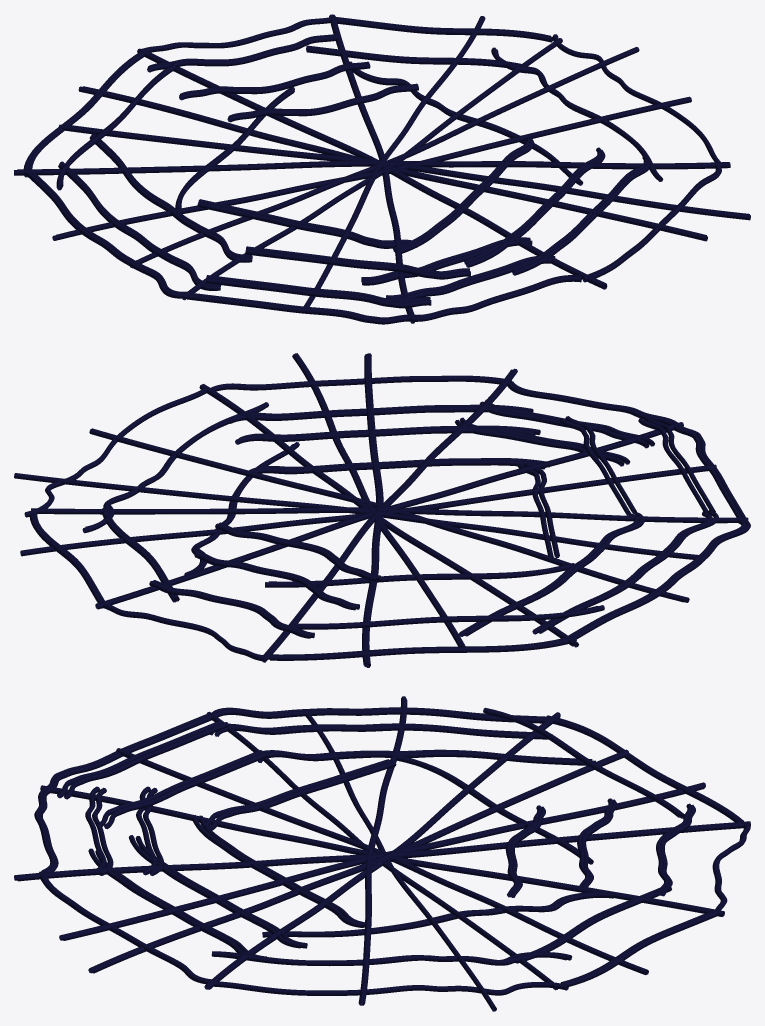
The model's file is cobweb.fbx.
3 views of the same model, one above another, from view 1: azimuth 30°, elevation 25°; view 2: azimuth 150°, elevation 25°; view 3: azimuth 270°, elevation 25° (orthographic). The views are drawn at different scales.
Parts seen in each view (by area): view 1: defaultBrush19Main, defaultBrush26Main, defaultBrush30Main, defaultBrush18Main, defaultBrush20Main, defaultBrush31Main, defaultBrush32Main, pasted__defaultBrush29Main, pasted__pasted__defaultBrush22Main, defaultBrush22Main, defaultBrush34Main, pasted__defaultBrush24Main (+44 smaller); view 2: defaultBrush21Main, defaultBrush34Main, defaultBrush32Main, defaultBrush3Main, defaultBrush1Main, defaultBrush2Main, defaultBrush29Main, defaultBrush31Main, pasted__pasted__pasted__defaultBrush7Main, defaultBrush7Main, pasted__defaultBrush7Main, pasted__pasted__defaultBrush7Main (+47 smaller); view 3: defaultBrush14Main, defaultBrush13Main, defaultBrush15Main, defaultBrush9Main, defaultBrush4Main, pasted__defaultBrush8Main, defaultBrush8Main, defaultBrush2Main, pasted__pasted__defaultBrush8Main, pasted__defaultBrush11Main, defaultBrush20Main, pasted__defaultBrush20Main (+39 smaller).
Part boxes in pixels (box(x1,y1,x2,y2)): defaultBrush19Main: box(14, 161, 730, 175); defaultBrush26Main: box(58, 124, 750, 220); defaultBrush30Main: box(78, 86, 707, 241); defaultBrush18Main: box(52, 97, 691, 240); defaultBrush20Main: box(130, 47, 639, 268); defaultBrush31Main: box(137, 48, 607, 289); defaultBrush32Main: box(329, 14, 415, 323); pasted__defaultBrush29Main: box(206, 278, 431, 308); pasted__pasted__defaultBrush22Main: box(245, 249, 470, 279); defaultBrush22Main: box(186, 294, 411, 324); defaultBrush34Main: box(181, 38, 561, 300); pasted__defaultBrush24Main: box(306, 47, 528, 67); defaultBrush21Main: box(20, 464, 716, 556); defaultBrush34Main: box(31, 507, 748, 523); defaultBrush32Main: box(95, 422, 683, 609); defaultBrush3Main: box(14, 474, 697, 559); defaultBrush1Main: box(89, 429, 683, 602); defaultBrush2Main: box(199, 384, 575, 646); defaultBrush29Main: box(270, 637, 576, 660); defaultBrush31Main: box(261, 368, 517, 662); pasted__pasted__pasted__defaultBrush7Main: box(246, 460, 545, 476); defaultBrush7Main: box(211, 376, 508, 391); pasted__defaultBrush7Main: box(229, 406, 527, 423); pasted__pasted__defaultBrush7Main: box(235, 427, 535, 444); defaultBrush14Main: box(17, 822, 749, 881); defaultBrush13Main: box(63, 784, 704, 940); defaultBrush15Main: box(44, 787, 723, 916); defaultBrush9Main: box(91, 751, 628, 973); defaultBrush4Main: box(118, 750, 648, 975); pasted__defaultBrush8Main: box(214, 725, 552, 739); defaultBrush8Main: box(212, 709, 548, 723); defaultBrush2Main: box(206, 714, 560, 989); pasted__pasted__defaultBrush8Main: box(258, 751, 595, 765); pasted__defaultBrush11Main: box(268, 892, 613, 937); defaultBrush20Main: box(305, 714, 496, 1011); pasted__defaultBrush20Main: box(211, 951, 566, 965).
Size of the model in its own units: 22.96 by 0.7772 by 22.72.
